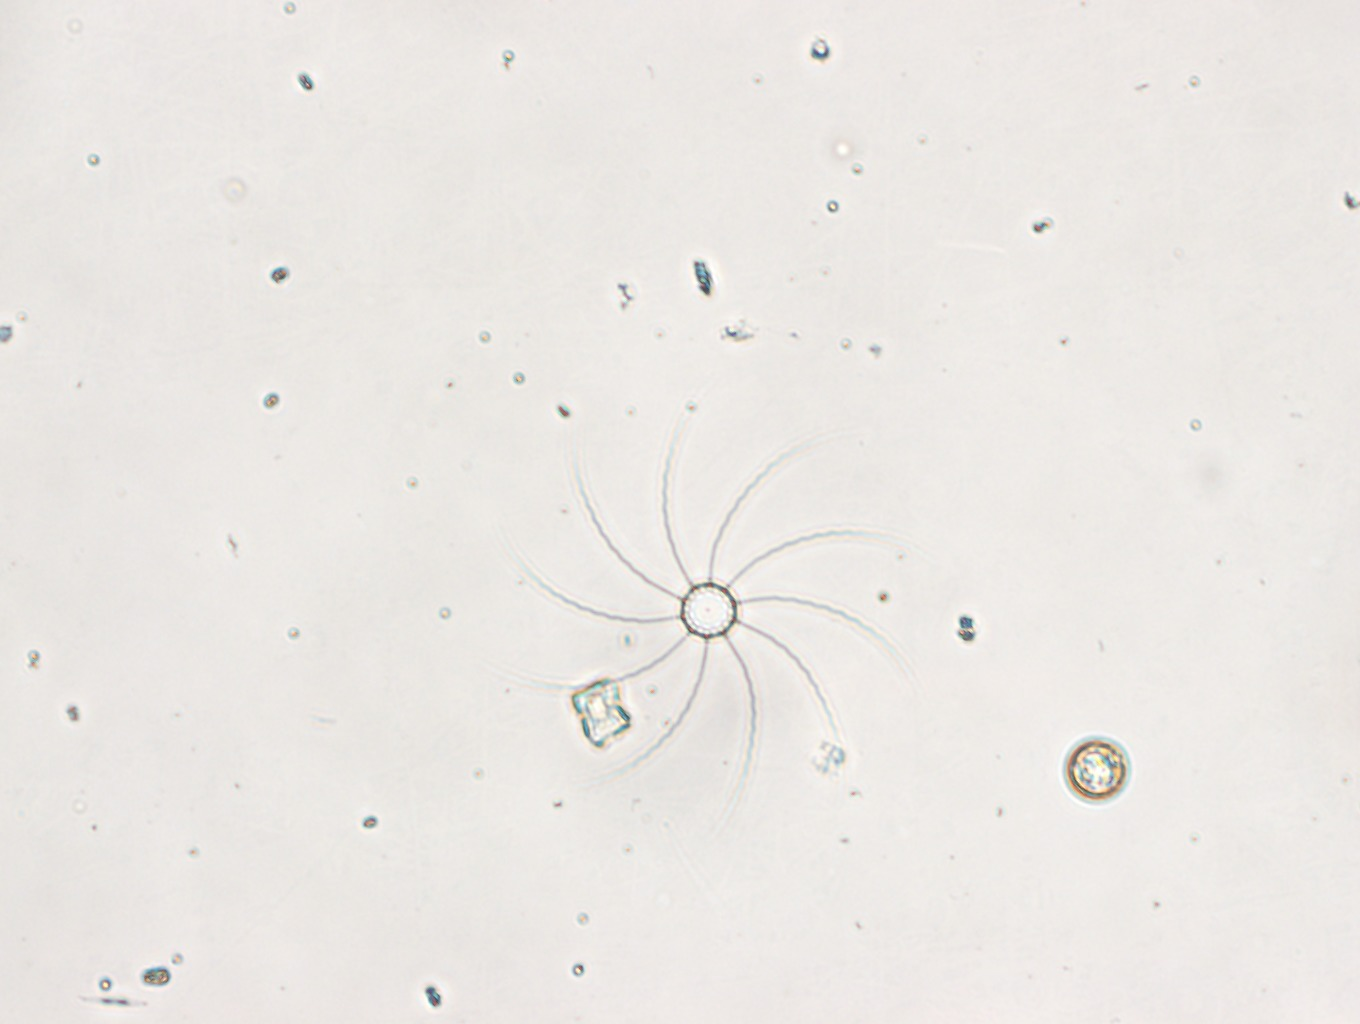bacteriastrum: (503, 412, 926, 790)
